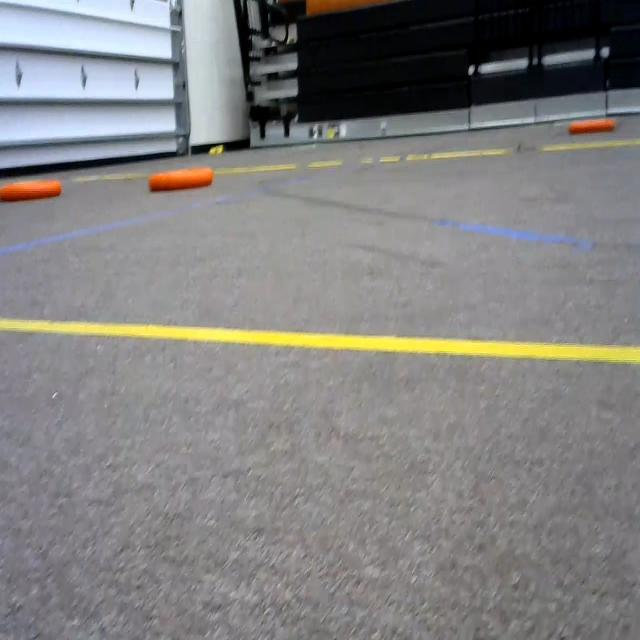note: (144, 165, 225, 195), (0, 171, 64, 202), (564, 113, 618, 143)
